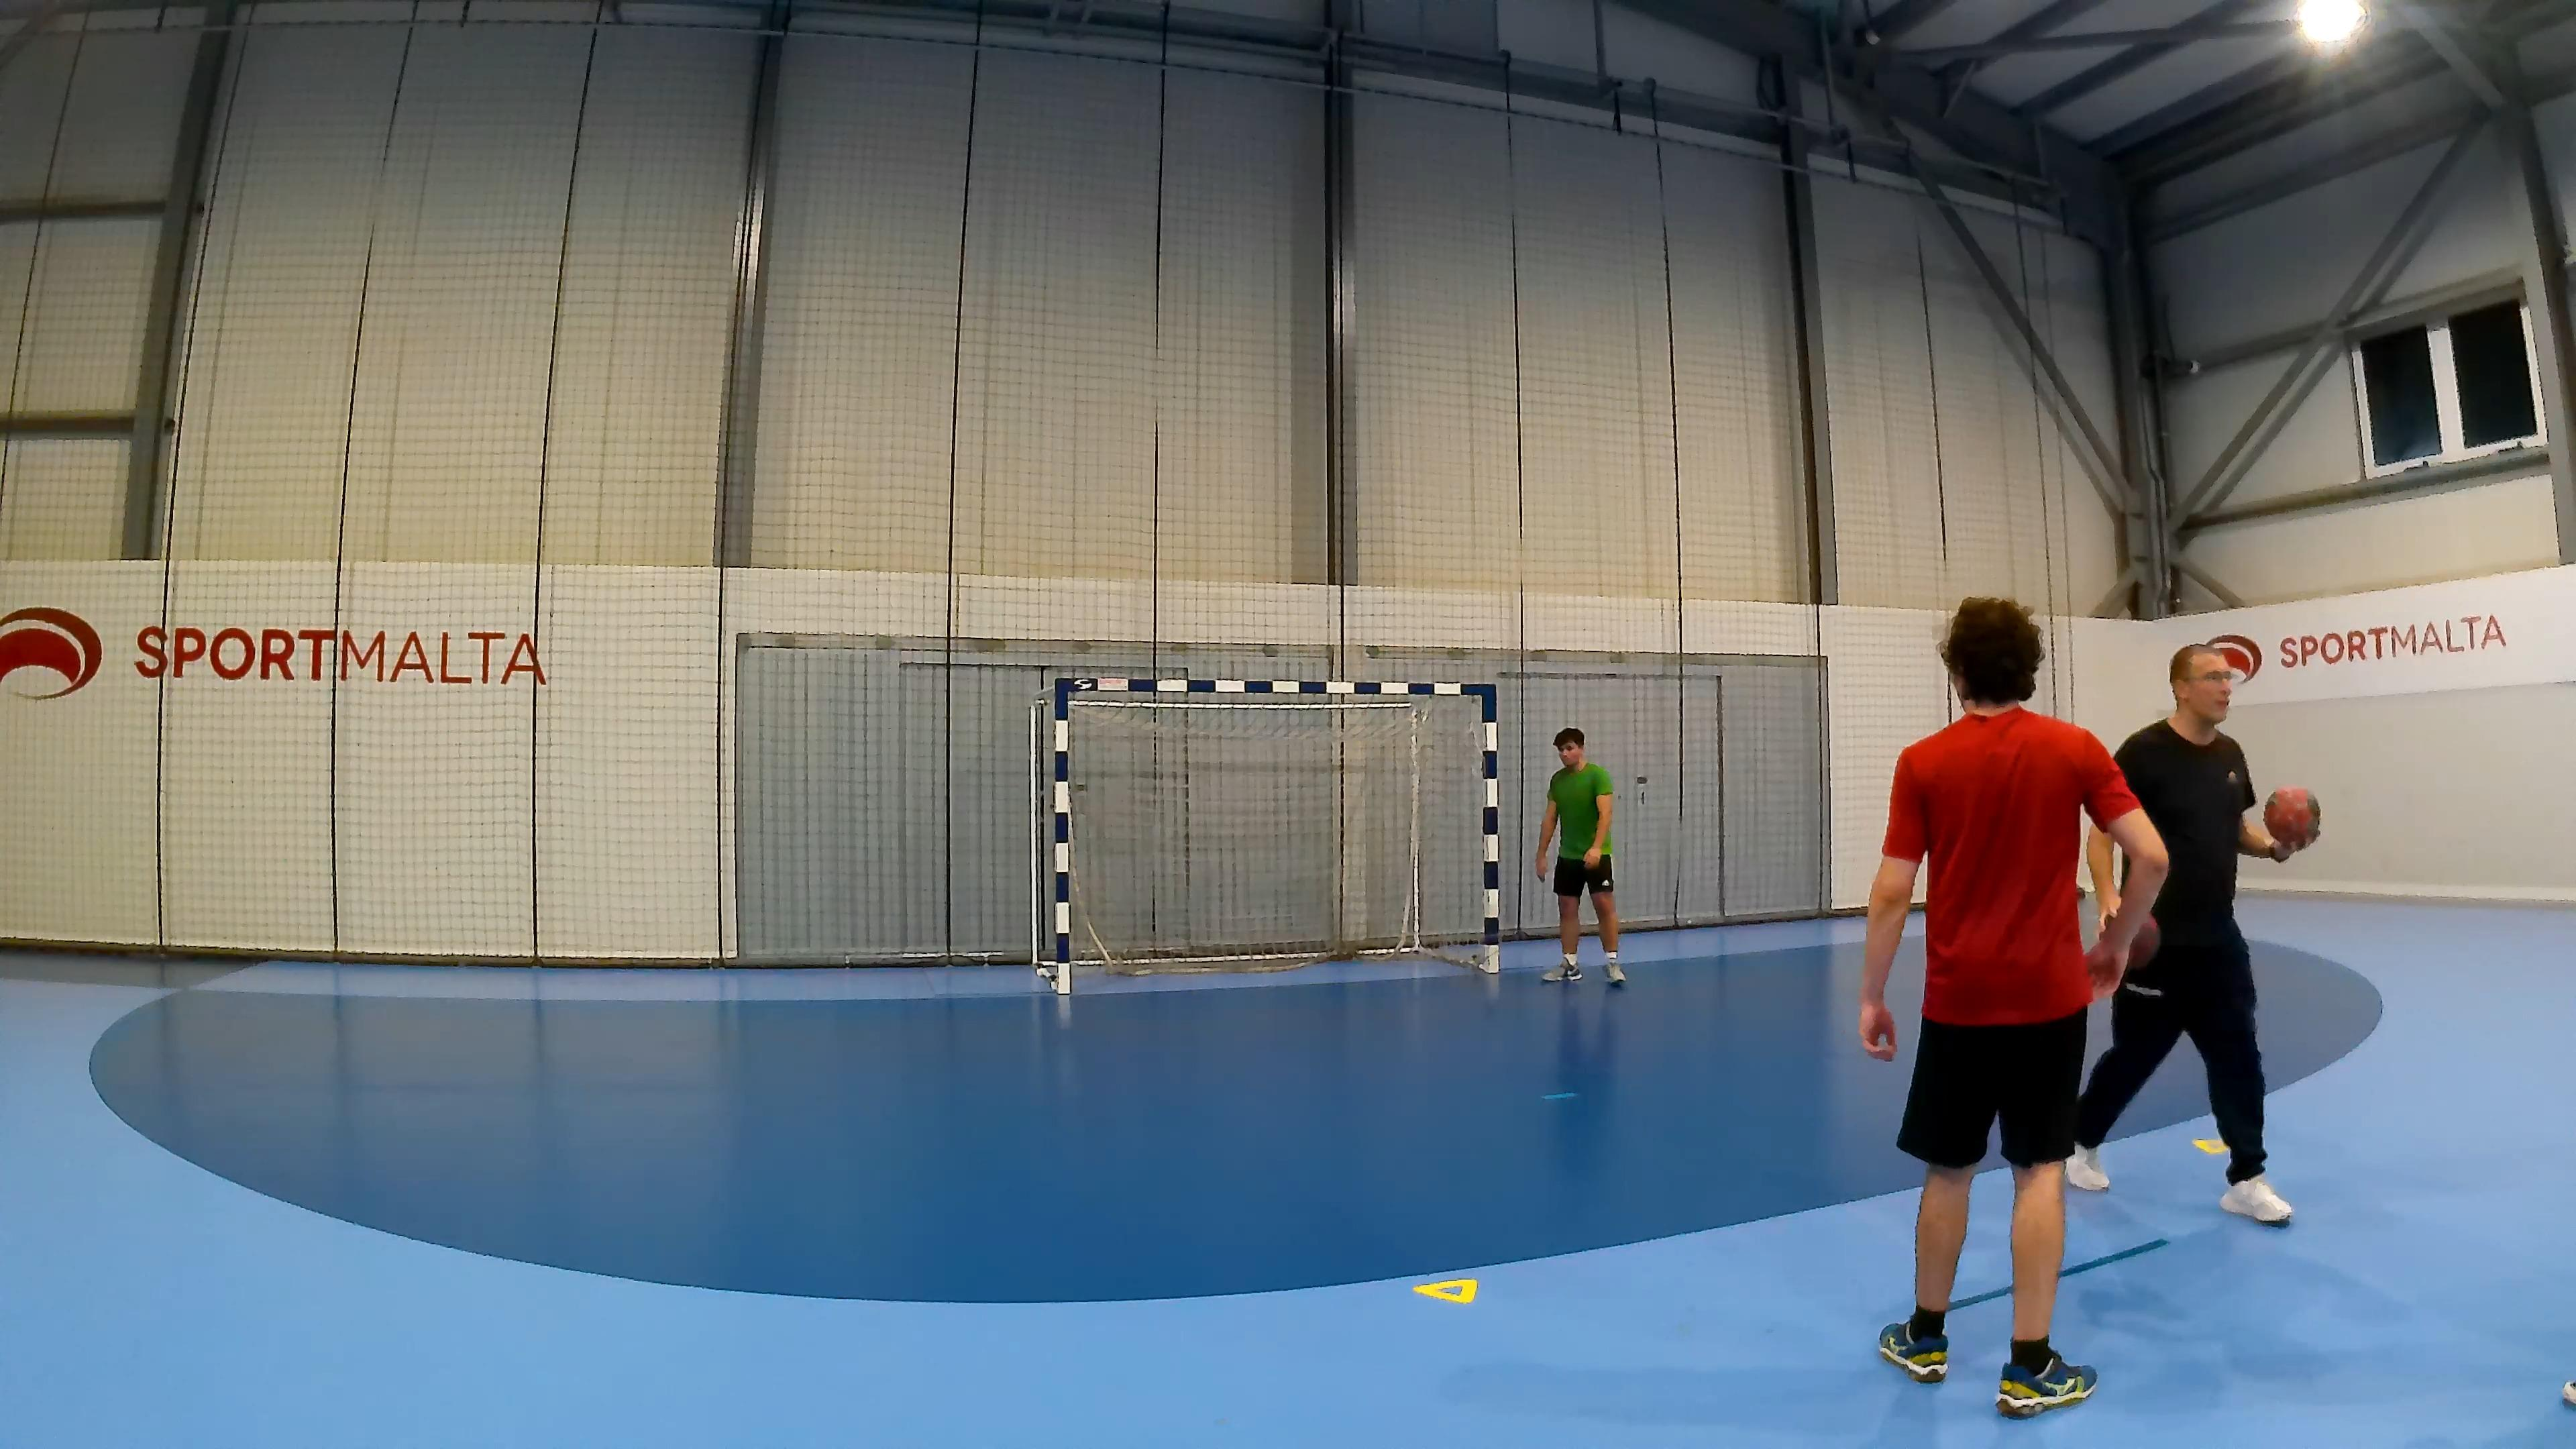handball: (2263, 786, 2319, 849)
